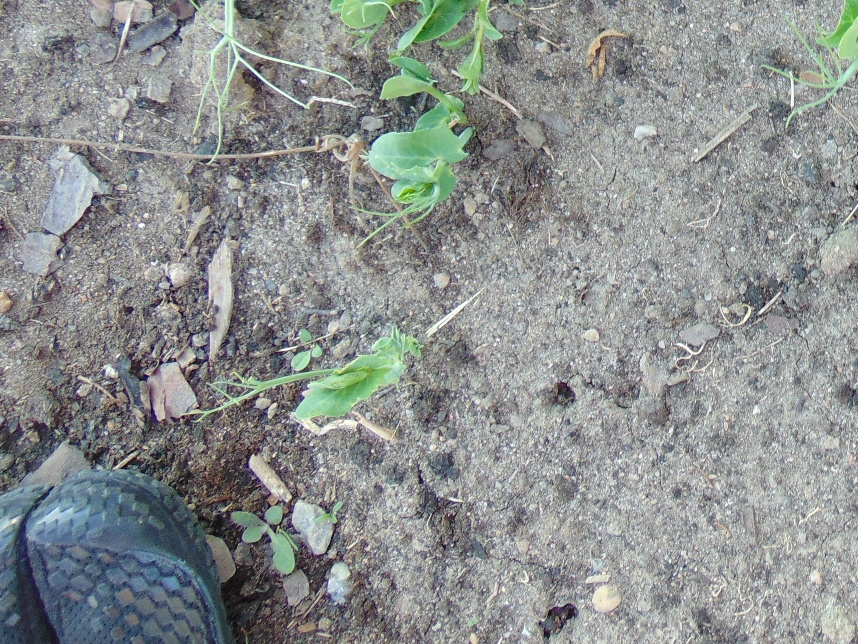crop: (348, 57, 475, 232), (209, 327, 420, 417), (326, 1, 500, 92), (795, 1, 858, 112), (193, 1, 256, 112)
weed: (229, 505, 299, 576), (290, 327, 321, 370)
